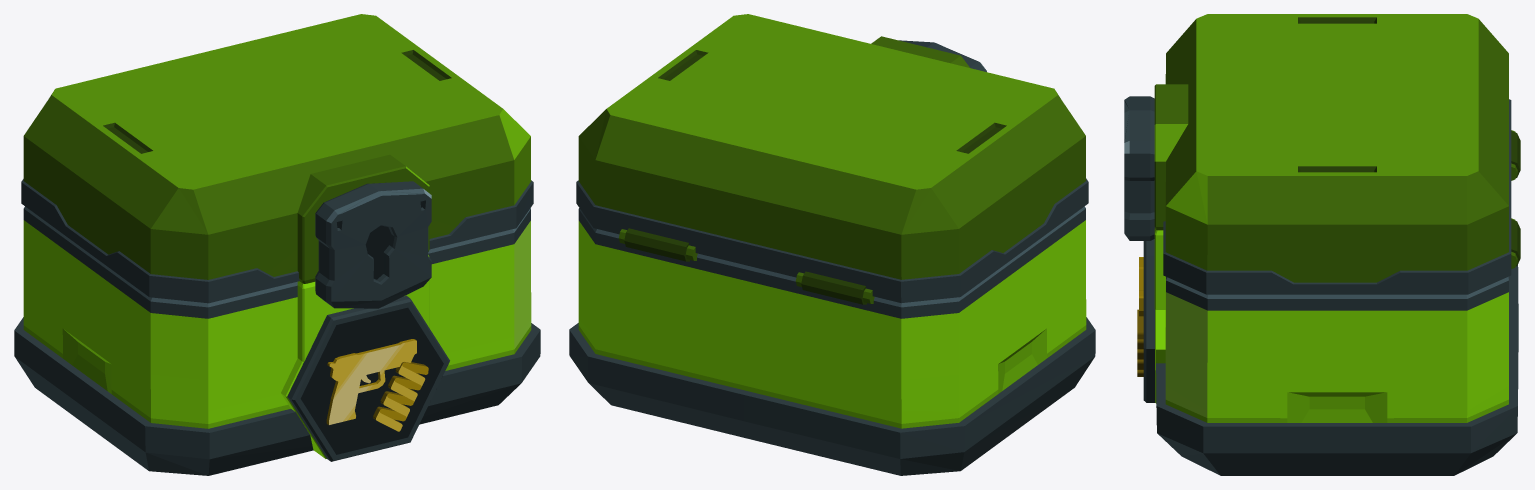
Rendered from BOX_MATERAL_G2_03.fbx.
The picture shows the model from 3 angles, left to right: view 1: azimuth 30°, elevation 25°; view 2: azimuth 150°, elevation 25°; view 3: azimuth 270°, elevation 25°; orthographic projection. The views are drawn at different scales.
Parts seen in each view (by area): view 1: Object003, BOX_MATERAL_G2_03, Object004; view 2: Object003, BOX_MATERAL_G2_03; view 3: Object003, BOX_MATERAL_G2_03, Object004.
Part boxes in pixels (x1=…): Object003: x1=21, y1=14, x2=533, y2=303; BOX_MATERAL_G2_03: x1=14, y1=206, x2=540, y2=475; Object004: x1=315, y1=181, x2=431, y2=308; Object003: x1=576, y1=14, x2=1088, y2=304; BOX_MATERAL_G2_03: x1=569, y1=206, x2=1095, y2=475; Object003: x1=1154, y1=14, x2=1520, y2=294; BOX_MATERAL_G2_03: x1=1137, y1=228, x2=1518, y2=475; Object004: x1=1124, y1=96, x2=1154, y2=240.
Size of the model in its own units: 187 by 128 by 158.
